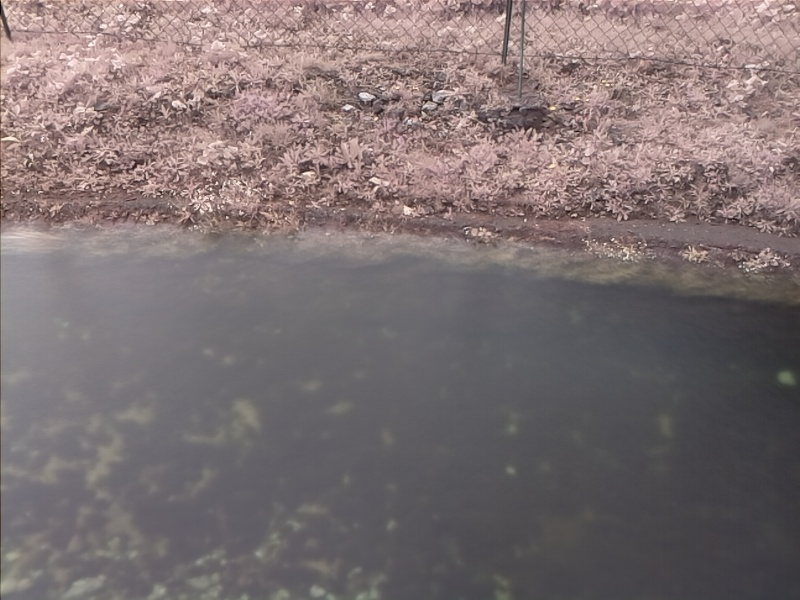Water: (1, 222, 800, 598)
